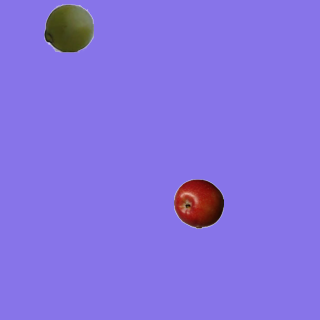Apple Braeburn: (173, 178, 223, 228)
Grape White 4: (43, 2, 93, 52)
